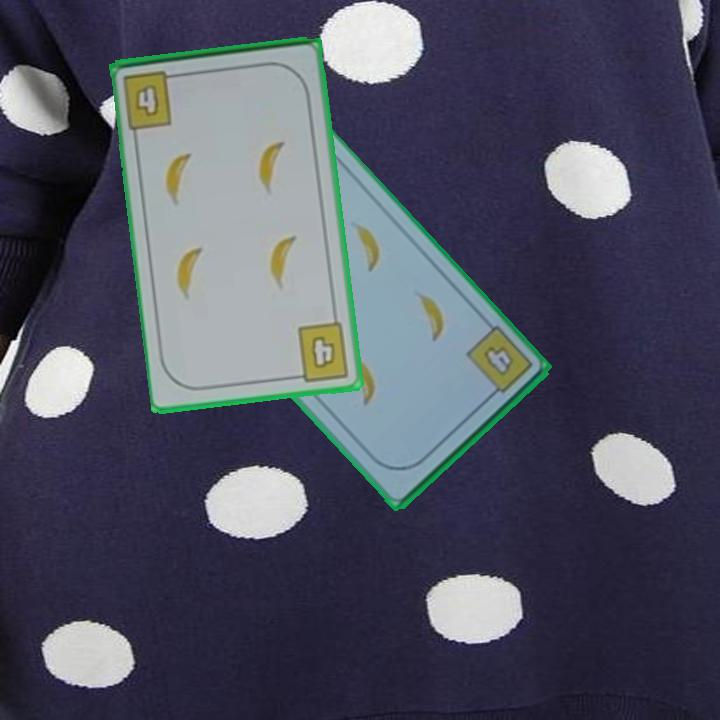4b: (461, 322, 536, 405), (288, 318, 353, 384), (119, 66, 184, 132)
